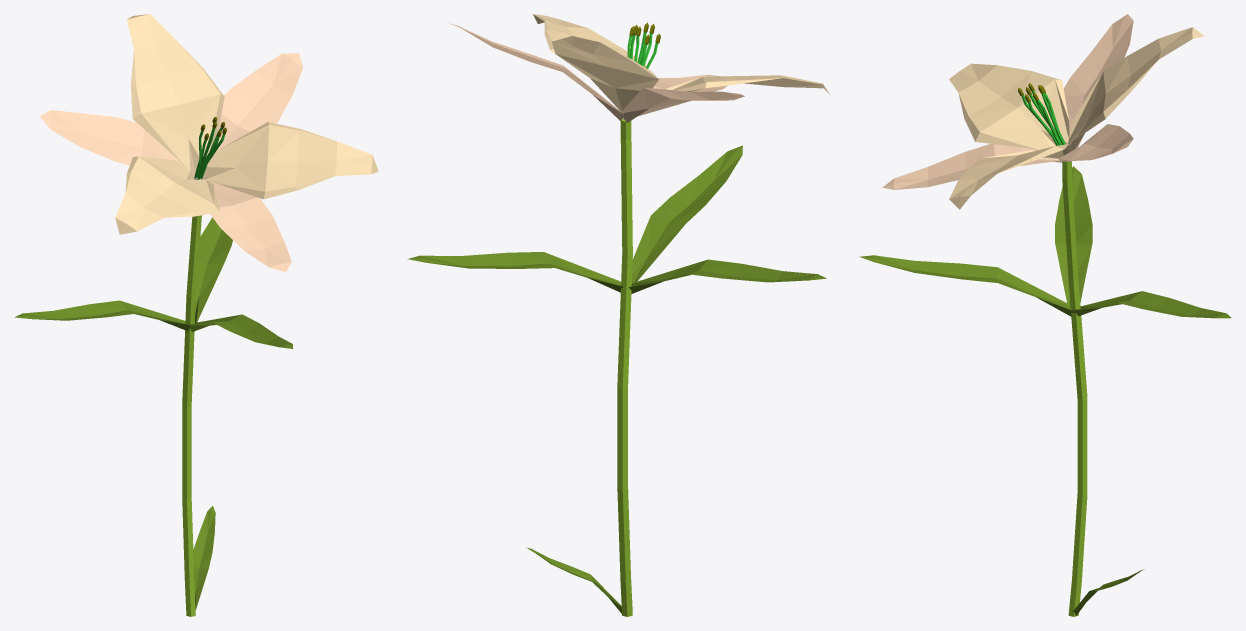
File: lilium.dae
The picture shows the model from 3 angles, left to right: view 1: azimuth 30°, elevation 25°; view 2: azimuth 150°, elevation 25°; view 3: azimuth 270°, elevation 25°; orthographic projection. The views are drawn at different scales.
Visible parts, largest first — view 1: t_leaf (×3), b_leaf (×3), b_leaf_1 (×3), stem_1, b_leaf_2; view 2: b_leaf_1 (×3), t_leaf (×3), stem_1, b_leaf (×2), b_leaf_2; view 3: t_leaf (×3), b_leaf_1 (×3), b_leaf (×3), stem_1.
Part boxes in pixels (box(x1,y1,x2,y2)): t_leaf (×3): box(115, 14, 378, 234); b_leaf (×3): box(40, 53, 303, 271); b_leaf_1 (×3): box(15, 217, 293, 348); stem_1: box(182, 215, 201, 616); b_leaf_2: box(193, 505, 215, 610); b_leaf_1 (×3): box(407, 145, 826, 293); t_leaf (×3): box(533, 14, 830, 111); stem_1: box(617, 119, 632, 616); b_leaf (×2): box(449, 23, 744, 122); b_leaf_2: box(526, 547, 621, 613); t_leaf (×3): box(949, 27, 1204, 209); b_leaf_1 (×3): box(859, 166, 1231, 318); b_leaf (×3): box(882, 14, 1133, 189); stem_1: box(1062, 161, 1087, 616).
Size of the model in its own units: 9.03 by 8.93 by 15.44.
